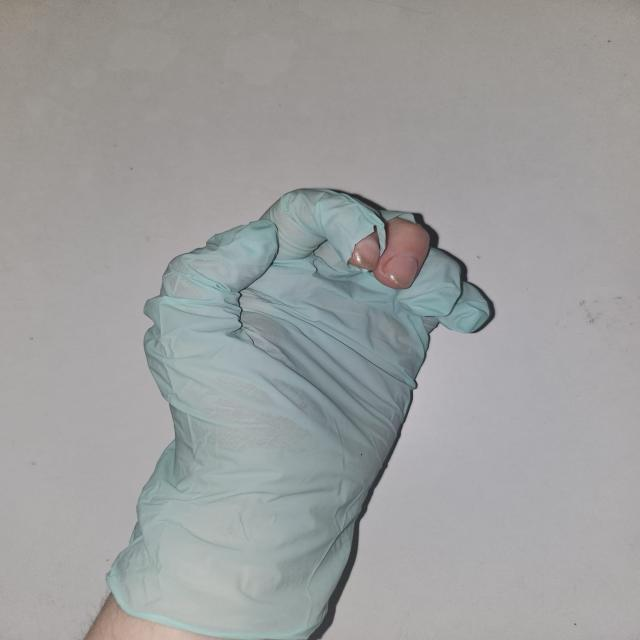gloves_damaged: (103, 188, 501, 633)
